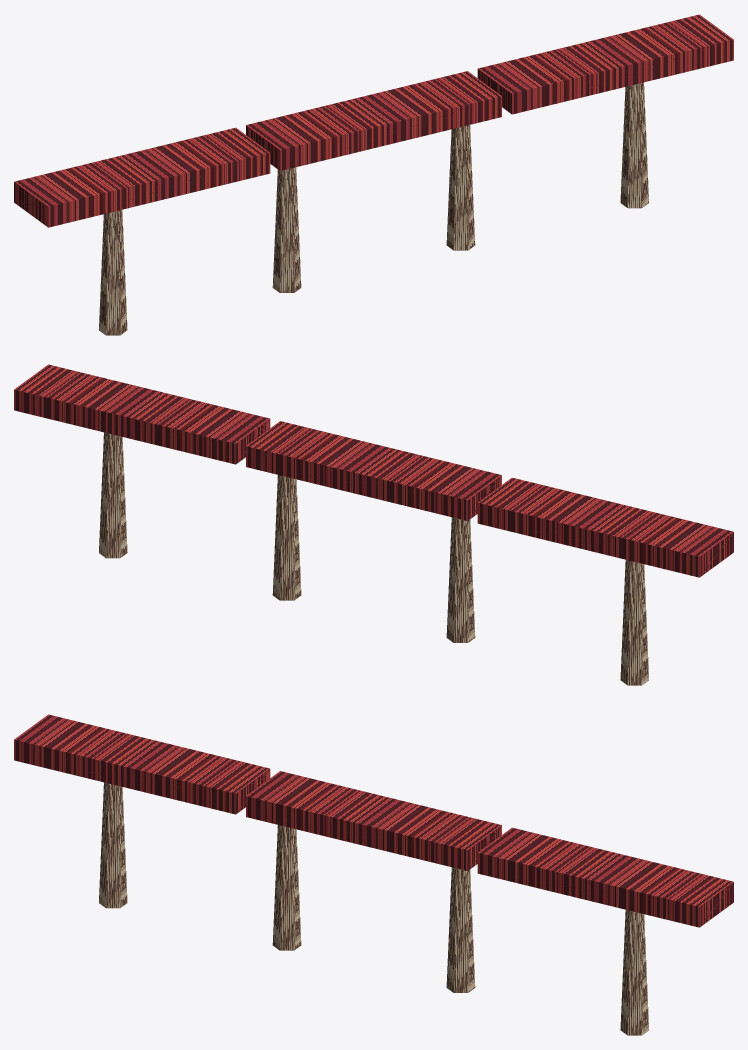
File: coralBridge.glb
3 views of the same model, one above another, from view 1: azimuth 30°, elevation 25°; view 2: azimuth 150°, elevation 25°; view 3: azimuth 330°, elevation 25° (orthographic).
Visible parts, largest first — view 1: Stage0, Stage2, Stage1, LOD0; view 2: Stage0, Stage2, Stage1, LOD0; view 3: Stage2, Stage0, Stage1, LOD0.
Boxes of the visible parts, left/top/right/bottom form: Stage0: left=14, top=127, right=270, bottom=227; Stage2: left=477, top=14, right=733, bottom=114; Stage1: left=246, top=71, right=501, bottom=170; LOD0: left=99, top=82, right=648, bottom=335; Stage0: left=477, top=477, right=733, bottom=577; Stage2: left=14, top=364, right=270, bottom=464; Stage1: left=246, top=421, right=501, bottom=520; LOD0: left=99, top=432, right=648, bottom=685; Stage2: left=477, top=827, right=733, bottom=927; Stage0: left=14, top=714, right=270, bottom=814; Stage1: left=246, top=771, right=501, bottom=870; LOD0: left=99, top=782, right=648, bottom=1035.
Size of what is drawn, in the model's own units: 138 by 30 by 12.
1 material, 1 textured.
